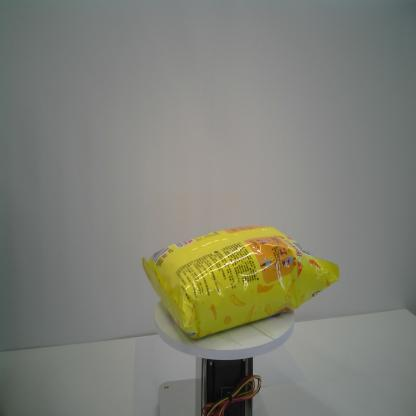Puffed Food: (140, 221, 340, 342)
